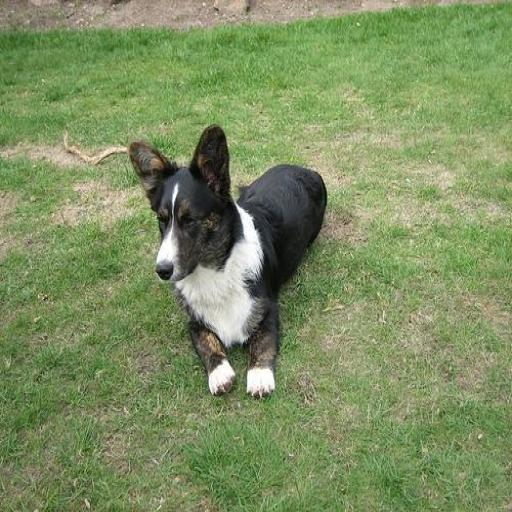dog_face: (127, 126, 234, 290)
